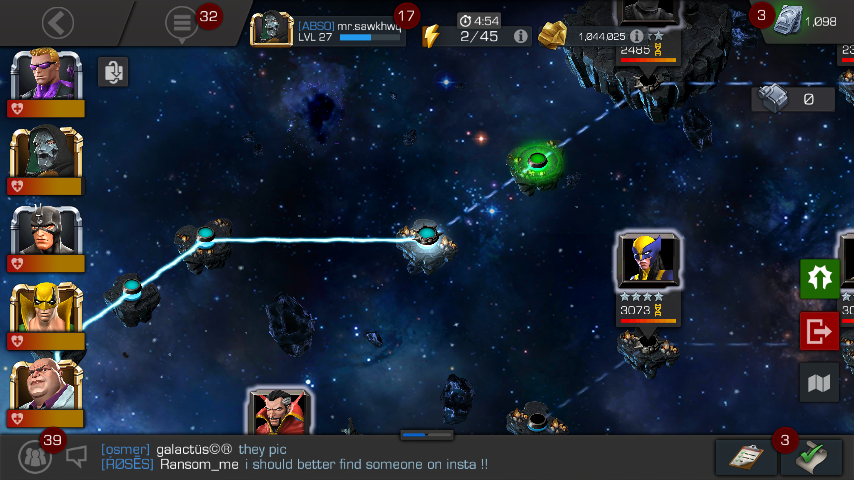green: (528, 153, 548, 168)
